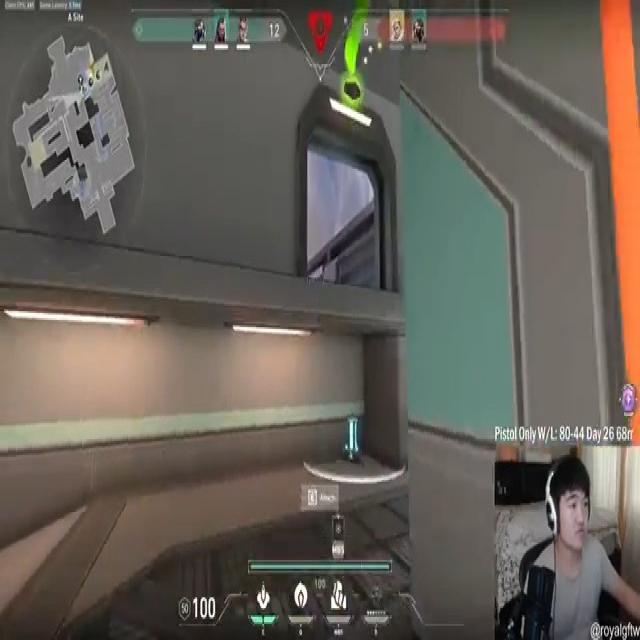spike-planted: (341, 409, 362, 474)
